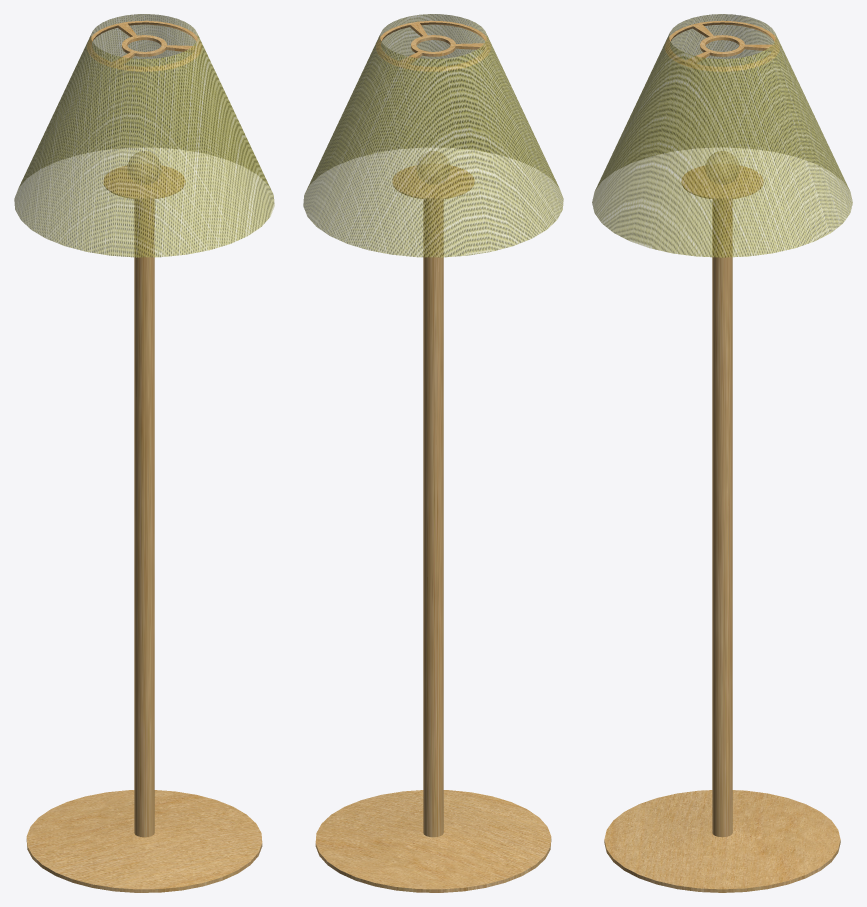
Rendered from porandalamp.fbx.
3 views of the same model, side by side, from view 1: azimuth 30°, elevation 25°; view 2: azimuth 150°, elevation 25°; view 3: azimuth 270°, elevation 25° (orthographic).
Parts seen in each view (by area): view 1: Cylinder; view 2: Cylinder; view 3: Cylinder.
Part boxes in pixels (x1,y1,x2,y2): Cylinder: (14, 14, 274, 892); Cylinder: (303, 14, 563, 892); Cylinder: (592, 14, 852, 892).
Bounding box in the file's own units: 148 × 506 × 148.
3 materials, 2 textured.
